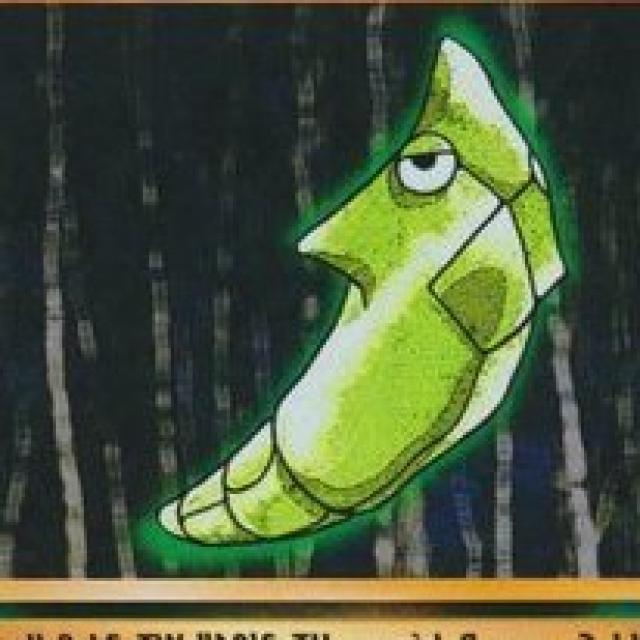Metapod: (158, 37, 570, 542)
